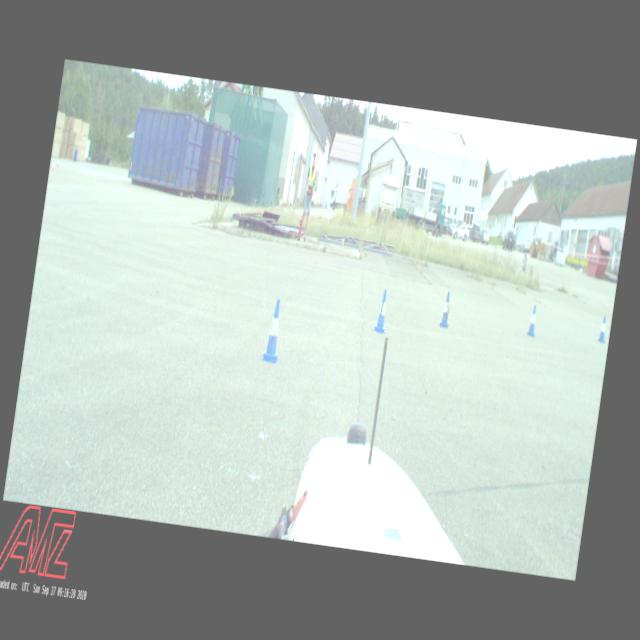blue_cone: (262, 297, 286, 363), (372, 288, 392, 334), (439, 291, 453, 328), (527, 304, 539, 338), (598, 314, 608, 344)
orange_cone: (52, 161, 56, 172), (57, 158, 60, 167)
